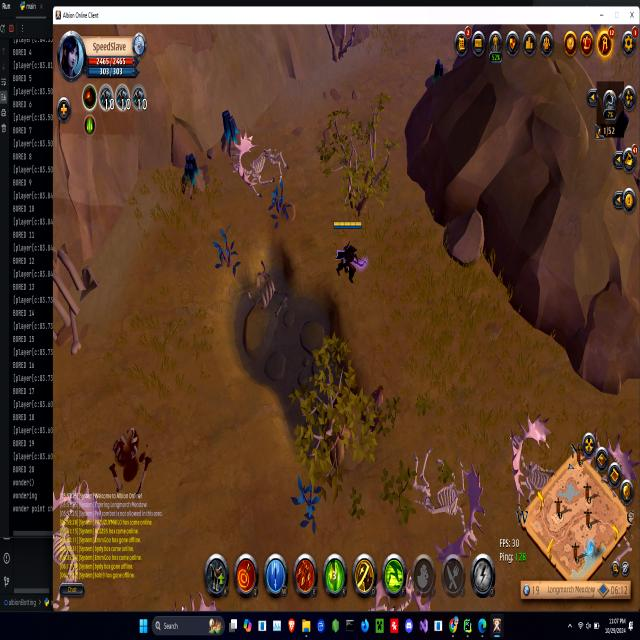player: (218, 108, 242, 156), (179, 153, 201, 200), (424, 56, 450, 89)
red: (332, 218, 366, 284)
